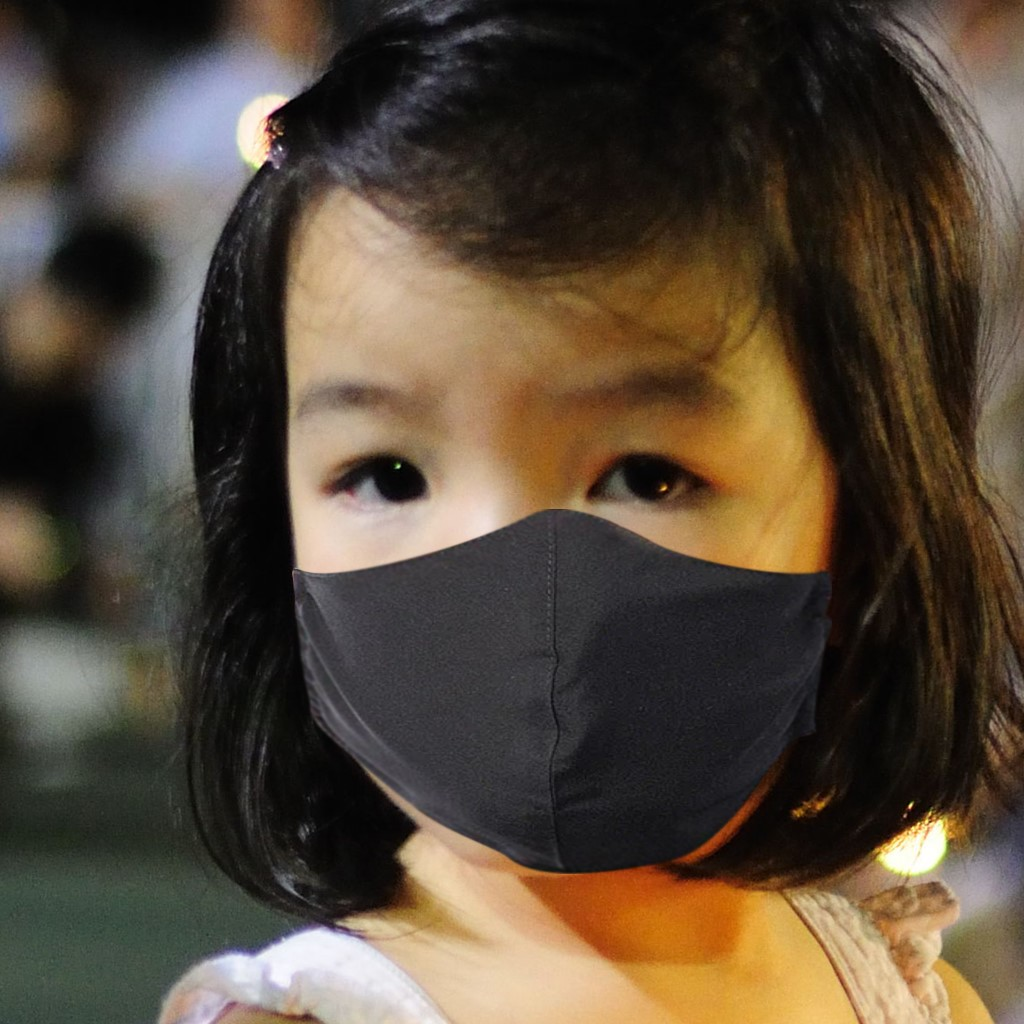con_mascara: (263, 112, 861, 892)
